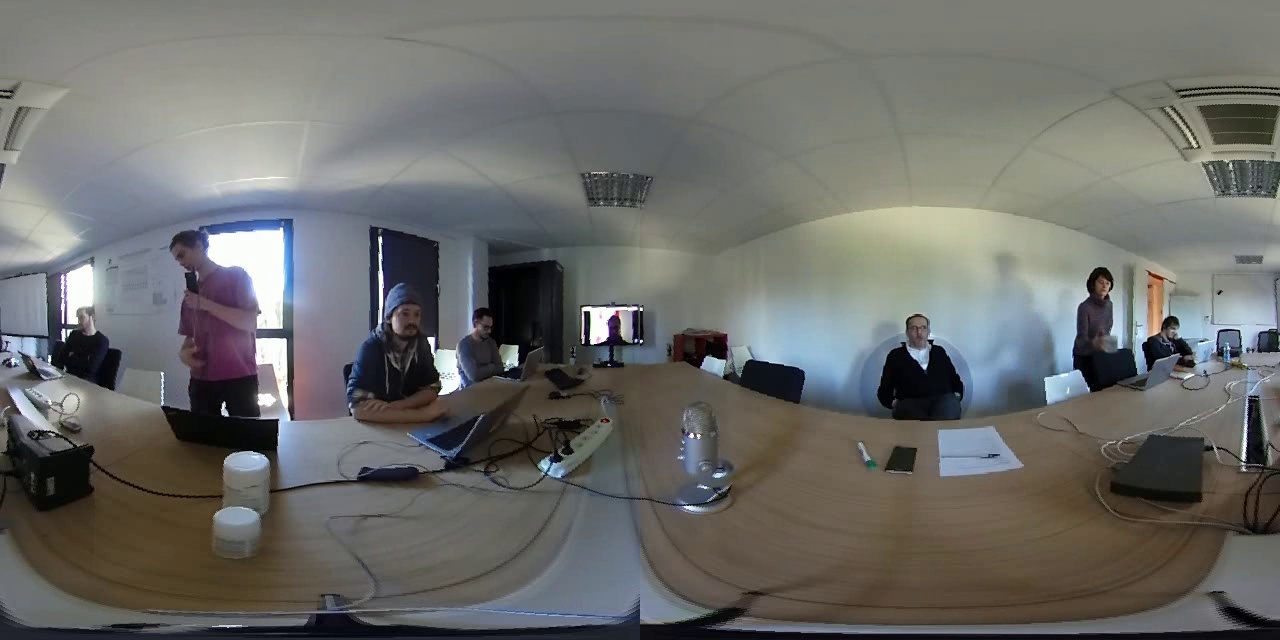person: (144, 222, 283, 406), (344, 276, 447, 418), (871, 307, 977, 432), (1070, 253, 1125, 379), (49, 300, 128, 377), (455, 304, 510, 383), (1153, 303, 1195, 367), (580, 307, 646, 341)
